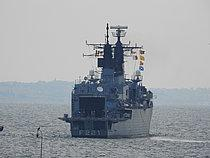MIL_Ship: (59, 21, 152, 138)
